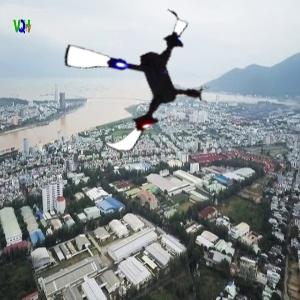drone: (58, 1, 215, 158)
